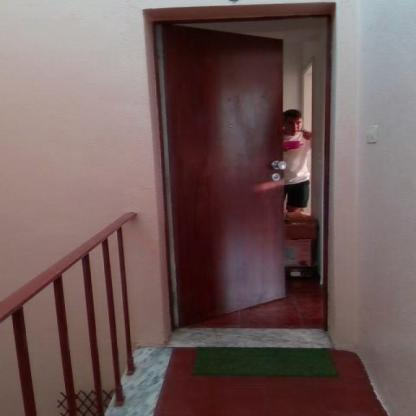door: (151, 1, 343, 342)
